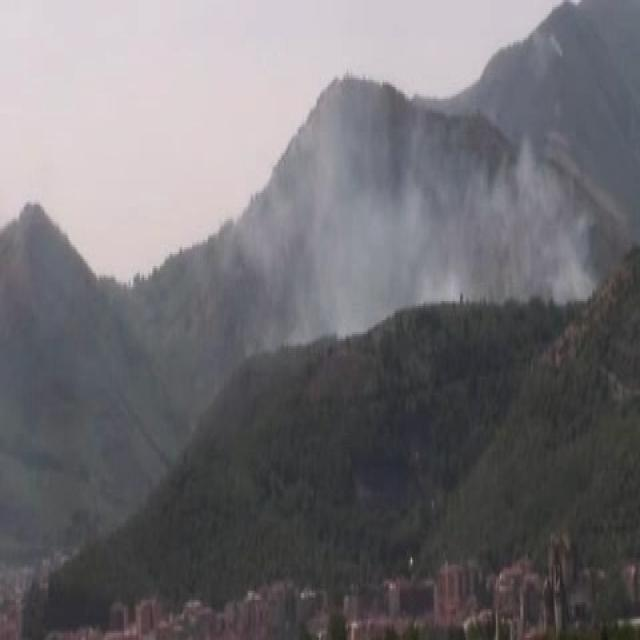Smoke: (300, 166, 594, 302)
